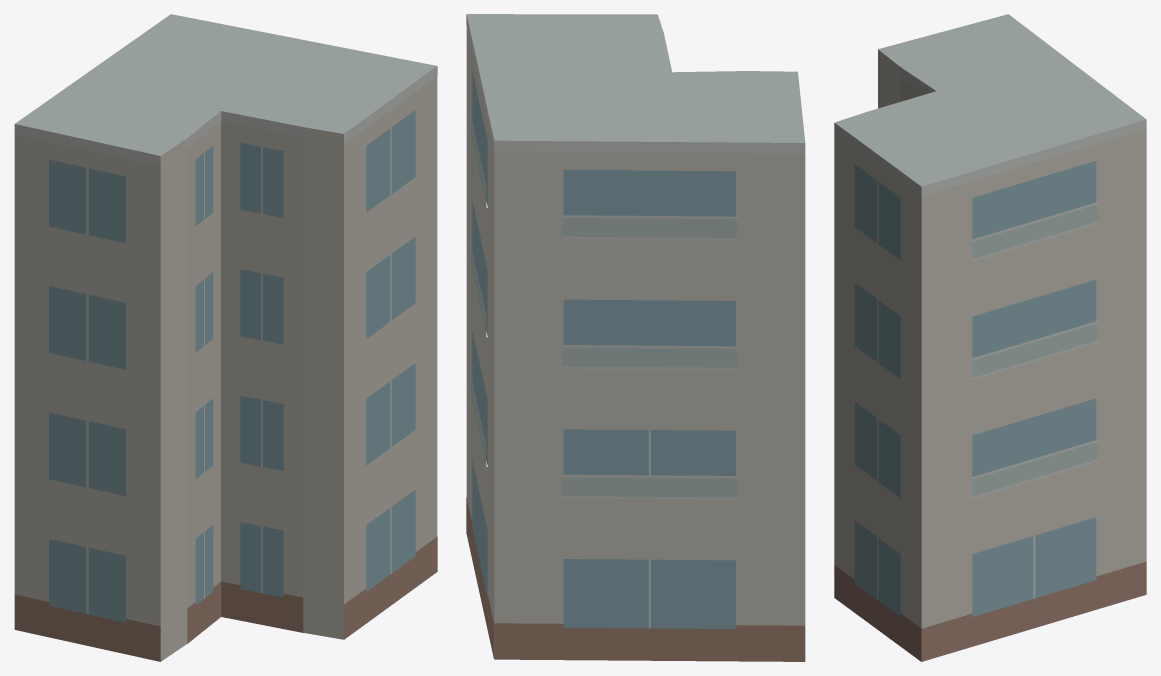
The model's file is survey-upis-32472406.glb.
3 renders of one model, left to right at view 1: azimuth 30°, elevation 25°; view 2: azimuth 150°, elevation 25°; view 3: azimuth 270°, elevation 25°, orthographic. The views are drawn at different scales.
Visible parts, largest first — view 1: survey-upis-32472406.tmp; view 2: survey-upis-32472406.tmp; view 3: survey-upis-32472406.tmp.
Boxes of the visible parts, x1=… form: survey-upis-32472406.tmp: x1=14, y1=14, x2=437, y2=661; survey-upis-32472406.tmp: x1=466, y1=14, x2=805, y2=661; survey-upis-32472406.tmp: x1=834, y1=14, x2=1146, y2=661.
Size of the model in its own units: 9.36 by 12 by 7.15.
